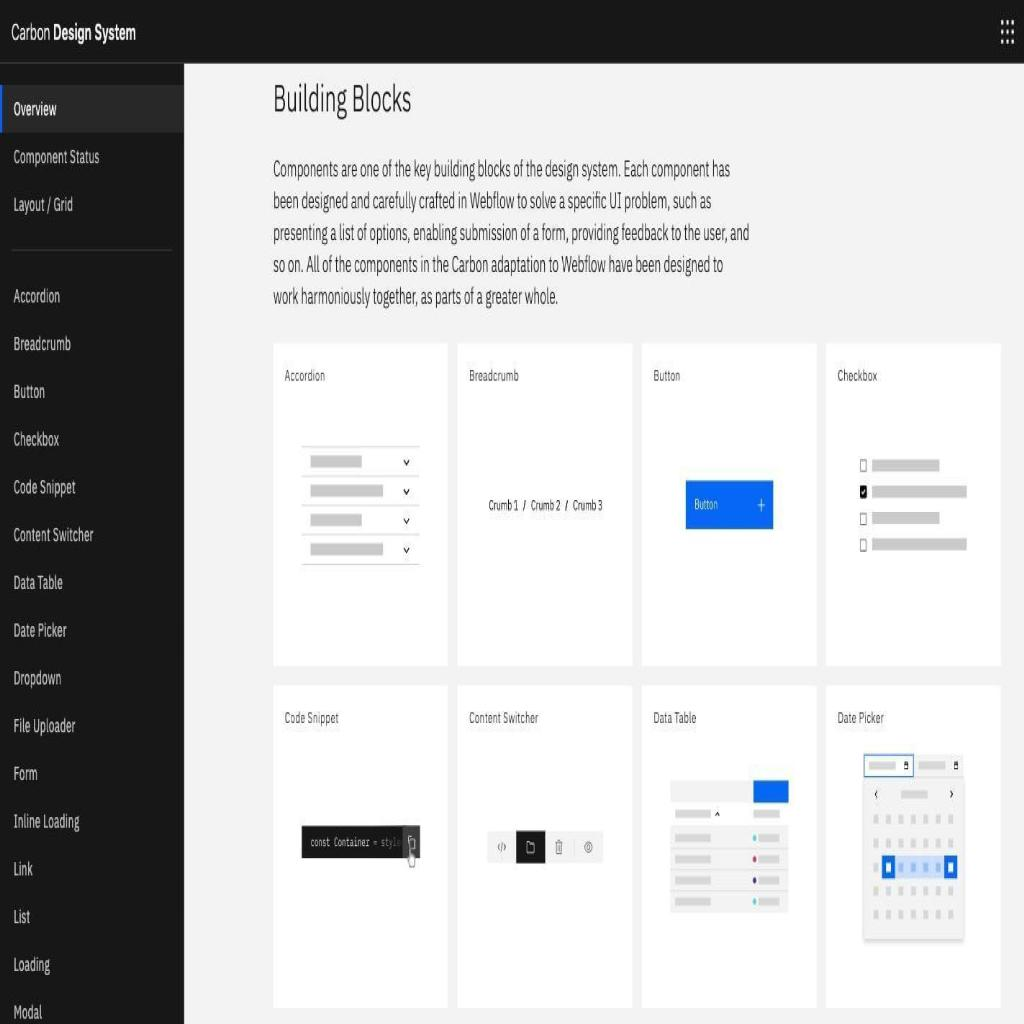button: (685, 479, 774, 530), (516, 829, 546, 864), (753, 778, 789, 804), (574, 832, 603, 864), (546, 832, 574, 864), (487, 833, 517, 862)
checkbox: (860, 538, 867, 552), (860, 485, 866, 499), (860, 459, 866, 472), (860, 514, 866, 526)
icon: (997, 14, 1016, 50), (402, 455, 410, 470), (402, 543, 410, 557), (403, 513, 410, 527), (403, 485, 409, 499)
input: (914, 754, 963, 778), (864, 755, 913, 777)
